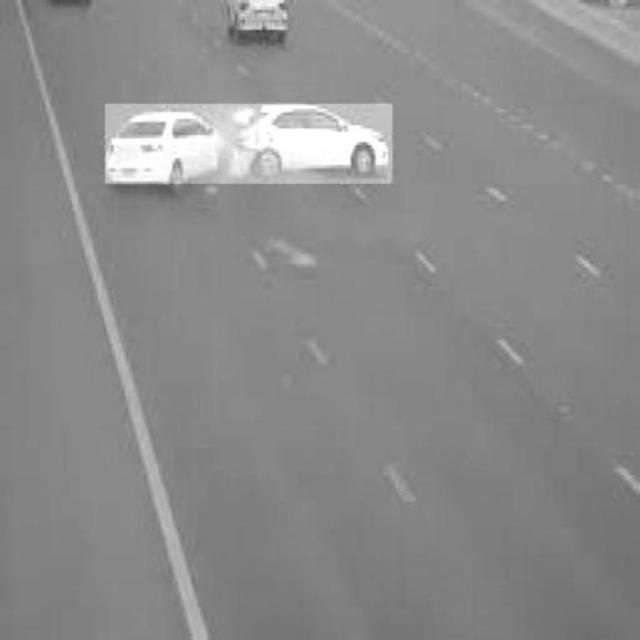accident: (105, 104, 393, 184)
